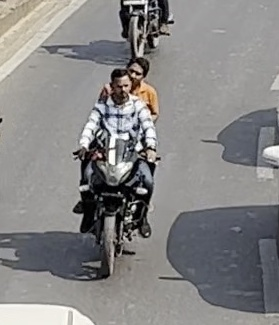BikeWithRider: (66, 51, 167, 280)
NoHelmet: (122, 53, 153, 91), (105, 65, 135, 102)
